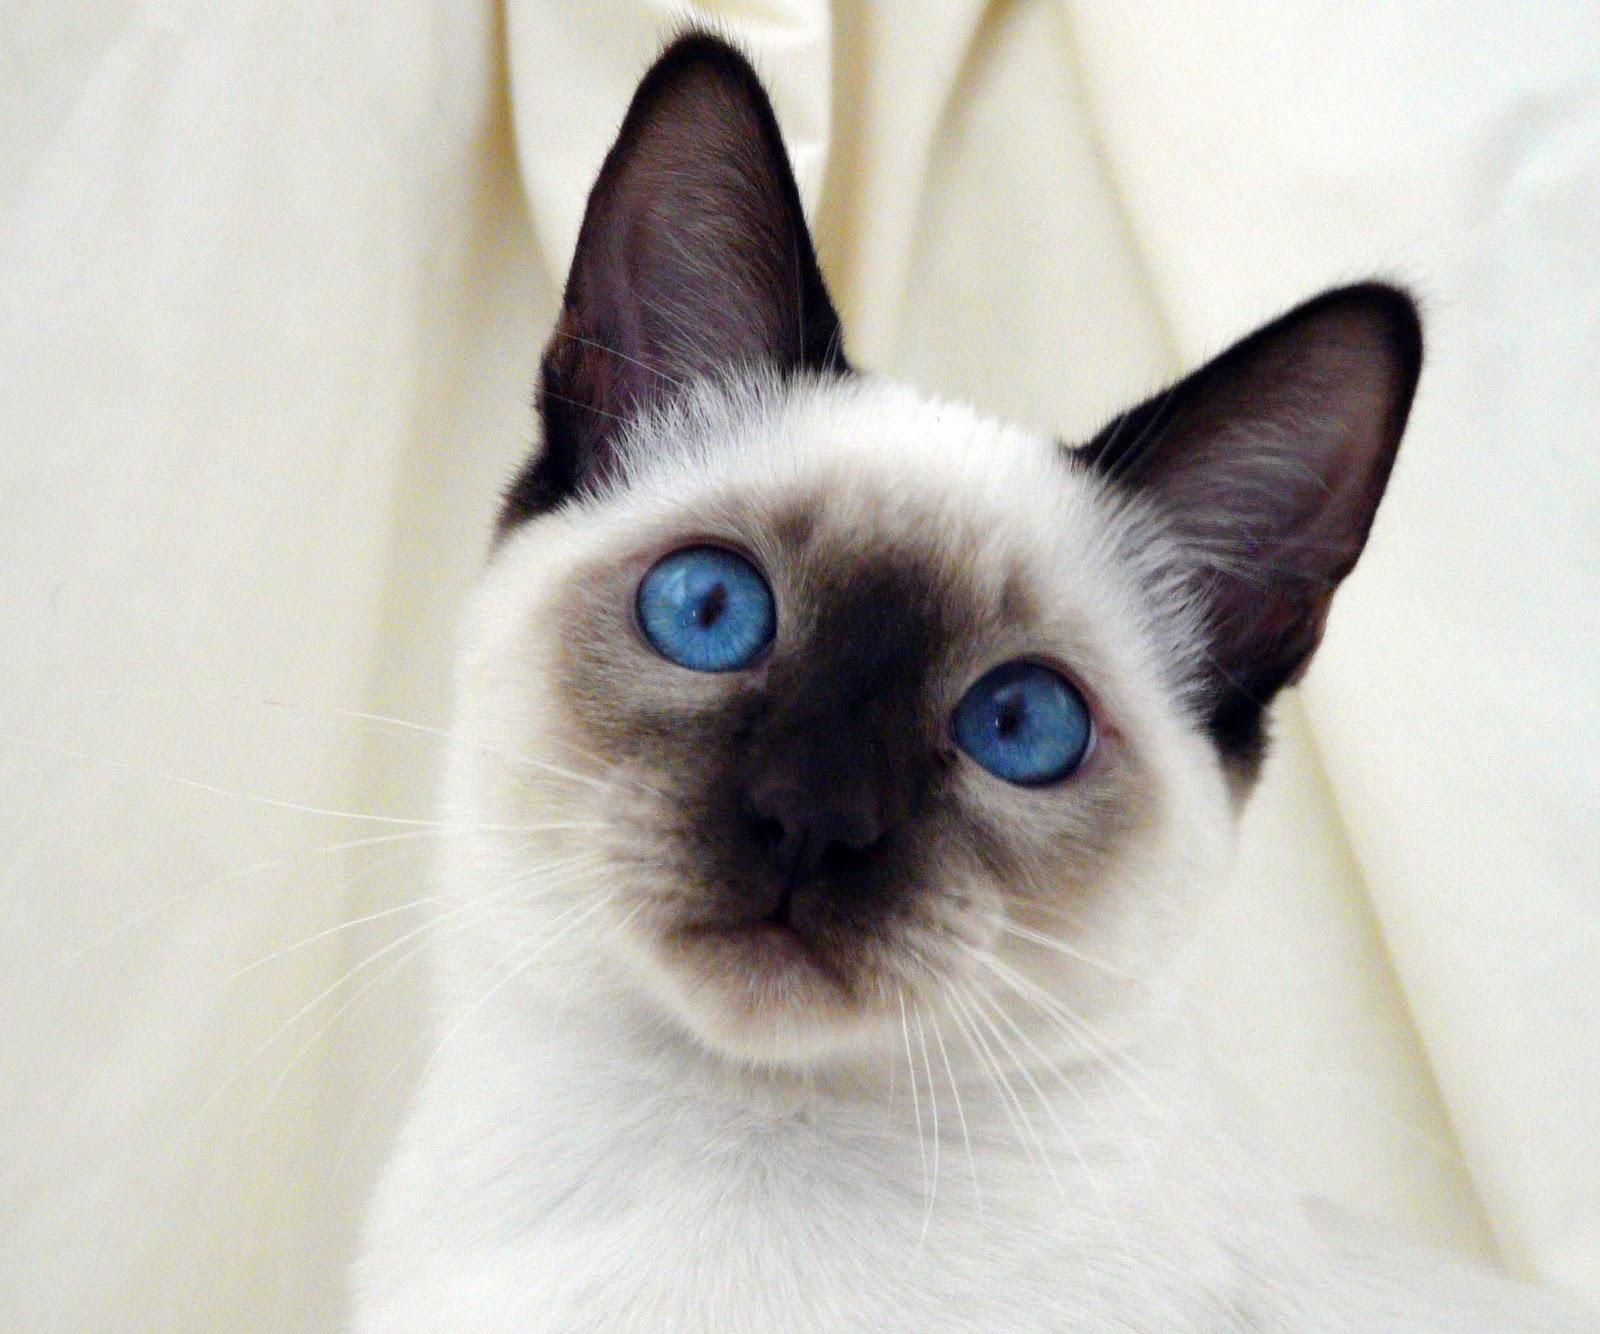siamese: (439, 21, 1451, 1109)
